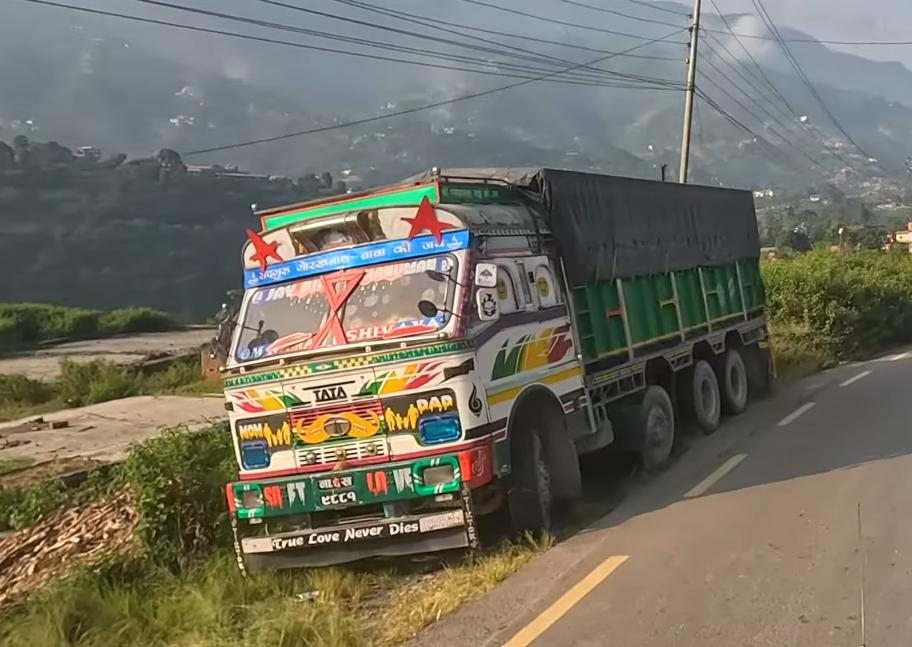truck: (208, 164, 778, 579)
